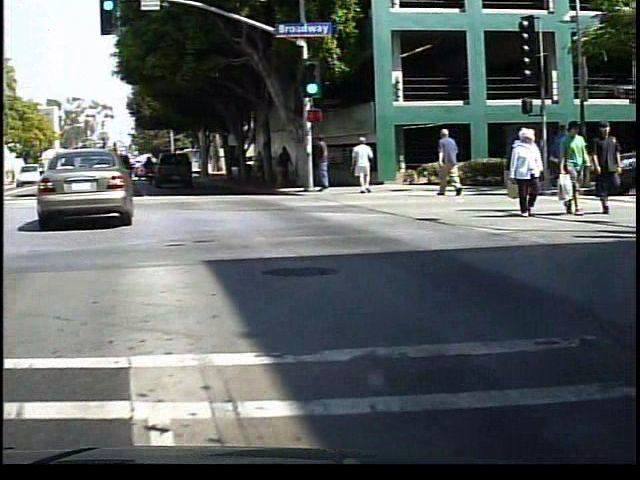person: (505, 127, 551, 217), (559, 120, 593, 218), (594, 120, 624, 218), (436, 126, 468, 197), (551, 118, 574, 192), (356, 137, 382, 198), (318, 133, 341, 200), (282, 143, 302, 191), (259, 148, 278, 189)
